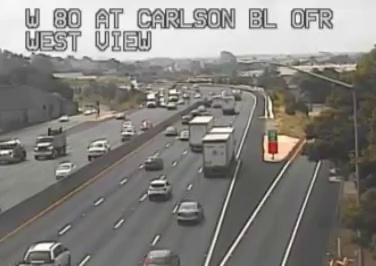car: (24, 242, 70, 266), (144, 250, 180, 266), (177, 201, 202, 222), (147, 179, 171, 198), (144, 157, 162, 170)
truck: (202, 127, 235, 177), (189, 115, 214, 151)
